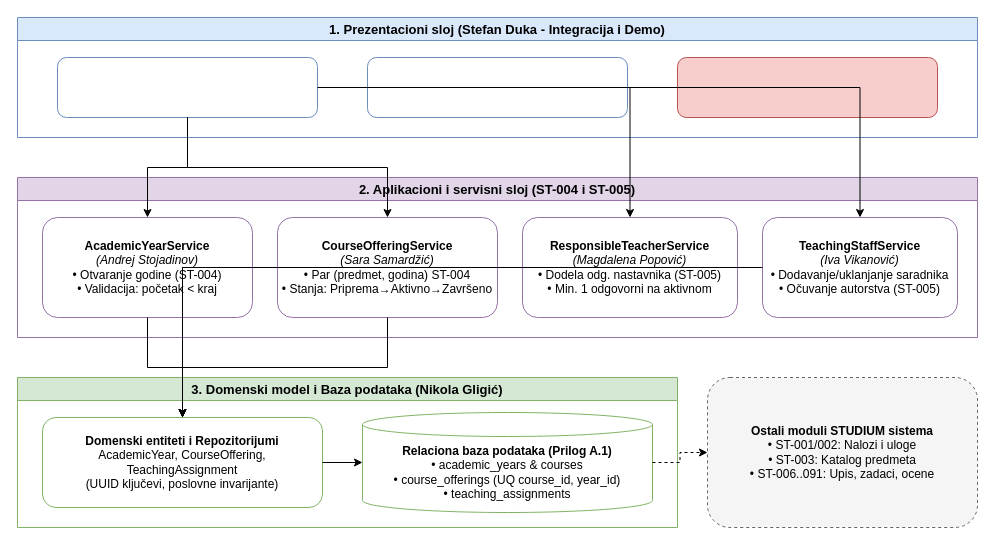
This 995x545 diagram has some shape labels left out. The shapes that lost their labels are listed below. From the top down, each one's centre as x and y in pixels, then its label:
point 187,87: Admin UI / API (Godine, Izvođenja, Odg. nastavnici)
point 497,87: Nastavnički UI / API (Stanja izvođenja, Saradnici)
point 807,87: AuthZ Kontrola pristupa (ST-002) Provera uloge i prava nad zapisom
